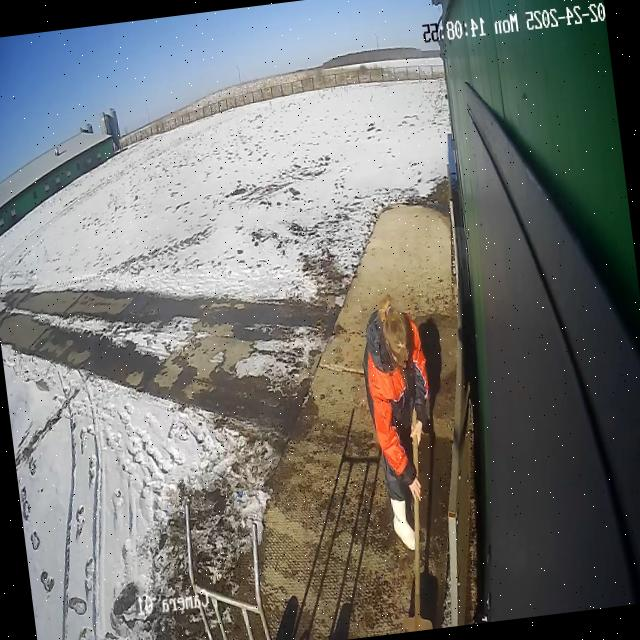Red uniform: (354, 293, 452, 556)
